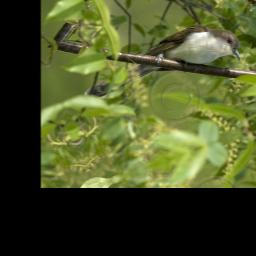Cuckoo: (94, 12, 250, 110)
